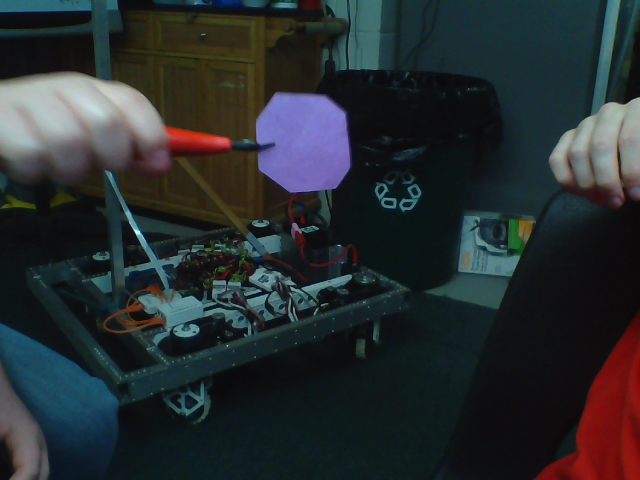ball: (257, 92, 349, 191)
